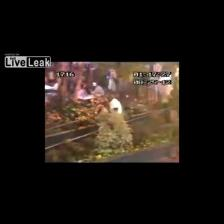person: (157, 84, 172, 123), (109, 94, 122, 114), (78, 84, 93, 100), (108, 70, 118, 91), (91, 82, 104, 95)
